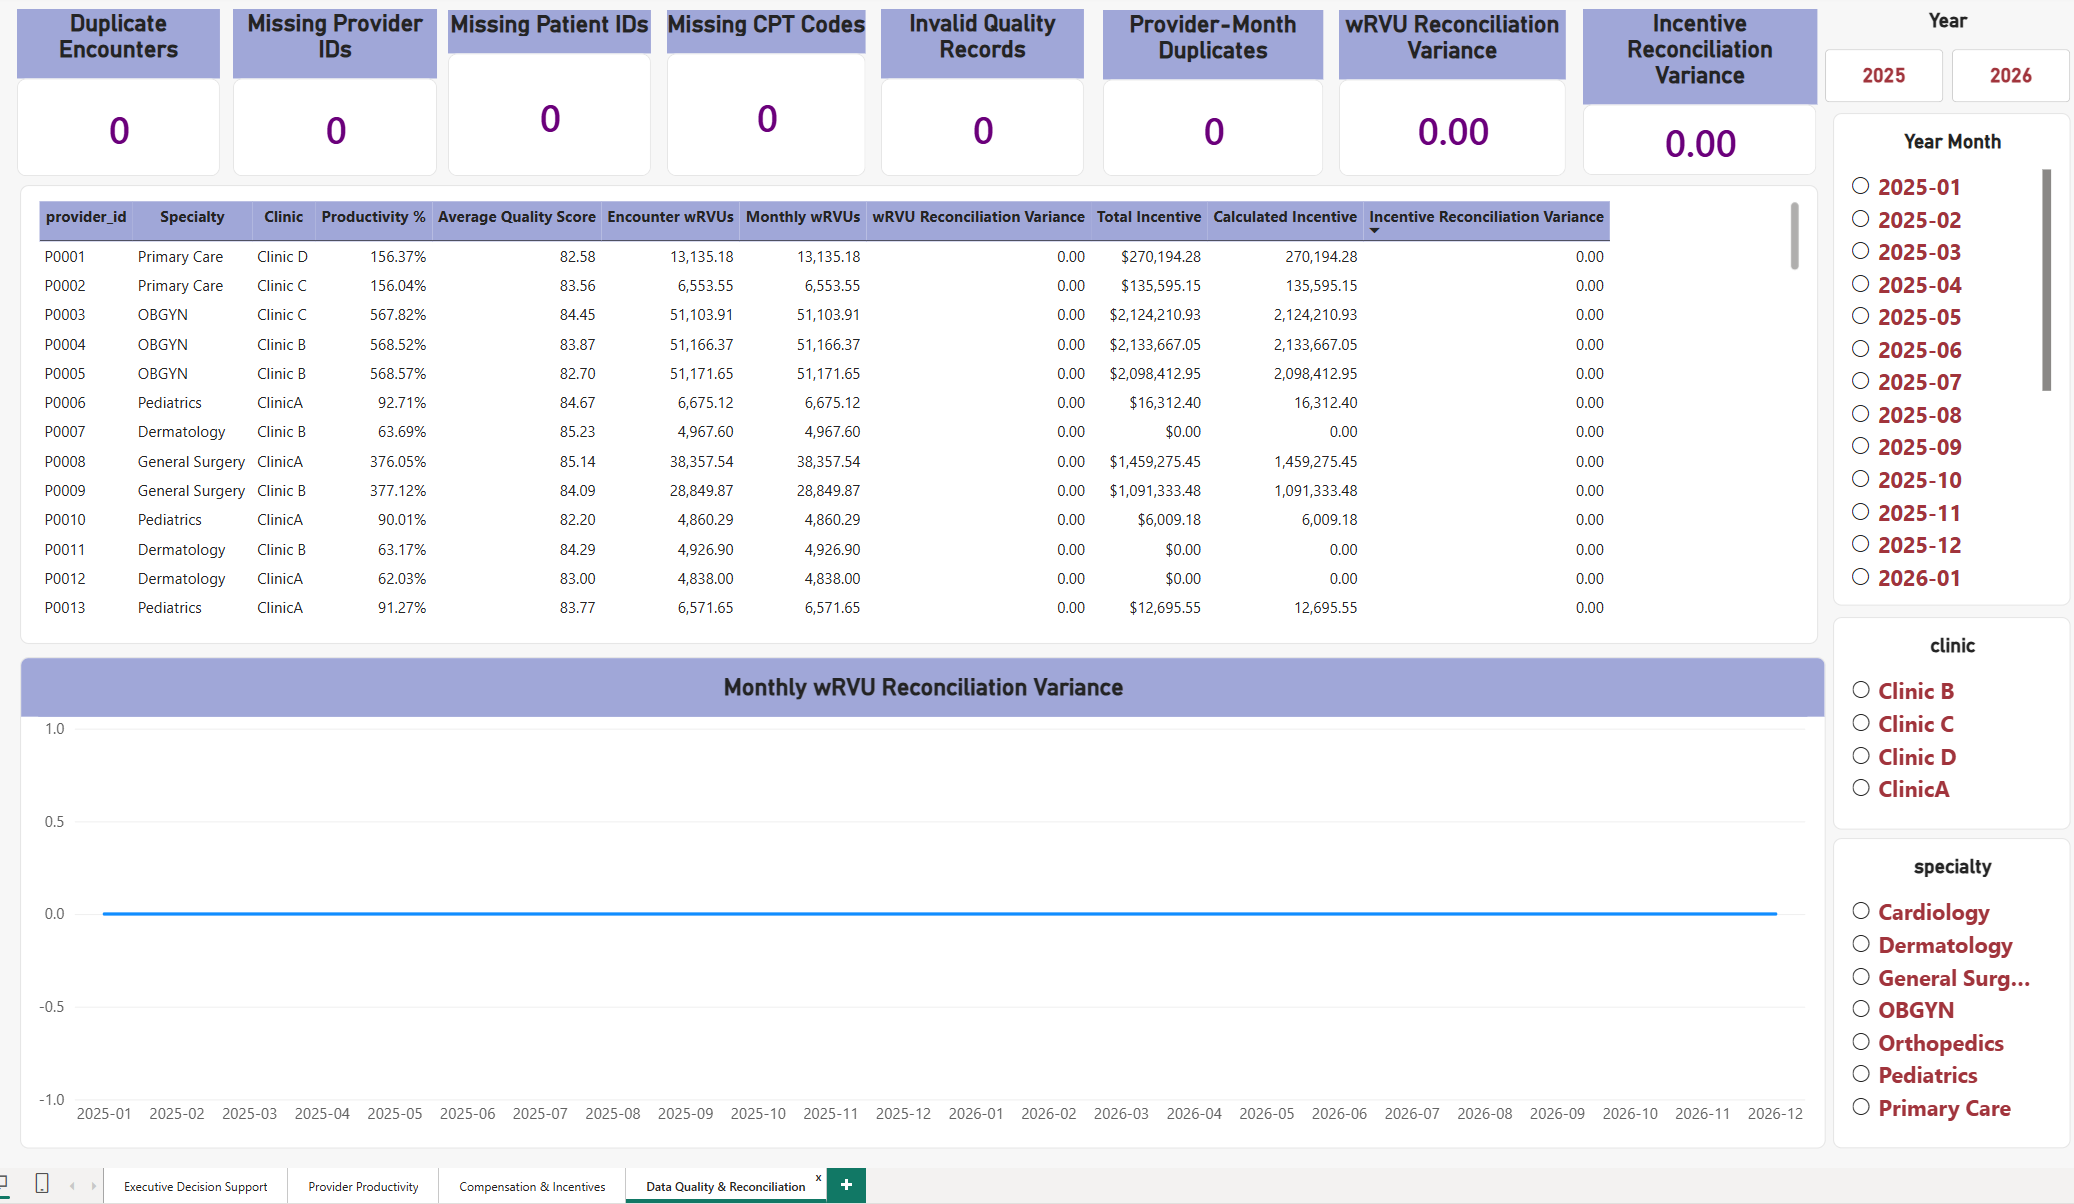

This screenshot's page, from the dashboard's own definition file:
{"tool":"powerbi","page":{"name":"Data Quality & Reconciliation","canvas":[1920,1080],"ordinal":3},"visuals":[{"type":"tableEx","fields":{"Values":["dim_providers.provider_id","Min(dim_providers.specialty)","Min(dim_providers.clinic)","fact_provider_monthly.Productivity %","fact_provider_monthly.Average Quality Score","fact_encounter.Encounter wRVUs","fact_encounter.Monthly wRVUs","fact_encounter.wRVU Reconciliation Variance","fact_provider_monthly.Total Incentive","fact_provider_monthly.Calculated Incentive","fact_provider_monthly.Incentive Reconciliation Variance"]},"box":[21.7,174.5,1656.7,423.1],"z":0},{"type":"advancedSlicerVisual","fields":{"Values":["DimDate.Year"]},"box":[1685.8,11.9,227.1,86.9],"z":1000},{"type":"listSlicer","fields":{"Values":["DimDate.Year Month"]},"box":[1693.2,107.5,218.9,453.6],"z":2000},{"type":"listSlicer","fields":{"Values":["dim_providers.specialty"]},"box":[1693.2,776.1,218.9,286],"z":3000},{"type":"listSlicer","fields":{"Values":["dim_providers.clinic"]},"box":[1693.2,572,218.9,196.2],"z":4000},{"type":"cardVisual","title":"Duplicate Encounters","fields":{"Data":["fact_encounter.Duplicate Encounter Count"]},"box":[19.7,11.8,187.4,154.8],"z":5000},{"type":"cardVisual","title":"Missing Provider IDs","fields":{"Data":["fact_encounter.Missing Provider IDs"]},"box":[217.9,11.8,188.4,154.8],"z":6000},{"type":"cardVisual","title":"Missing Patient IDs","fields":{"Data":["fact_encounter.Missing Patient IDs"]},"box":[416.1,12.8,187.4,153.8],"z":7000},{"type":"cardVisual","title":"Missing CPT Codes","fields":{"Data":["fact_encounter.Missing CPT Codes"]},"box":[618.3,12.8,183.4,153.8],"z":8000},{"type":"cardVisual","title":"Invalid Quality Records","fields":{"Data":["fact_provider_monthly.Invalid Quality Records1"]},"box":[815.5,11.8,187.4,154.8],"z":9000},{"type":"cardVisual","title":"Provider-Month Duplicates","fields":{"Data":["fact_encounter.Provider Month Duplicate Rows"]},"box":[1019.7,12.8,203.1,153.8],"z":10000},{"type":"cardVisual","title":"wRVU Reconciliation Variance","fields":{"Data":["fact_encounter.wRVU Reconciliation Variance"]},"box":[1237.6,12.8,209.1,153.8],"z":11000},{"type":"lineChart","title":"Monthly wRVU Reconciliation Variance","fields":{"Category":["DimDate.Year Month"],"Y":["fact_encounter.wRVU Reconciliation Variance"]},"box":[21.7,609.4,1663.6,452.6],"z":12000},{"type":"cardVisual","title":"Incentive Reconciliation Variance","fields":{"Data":["fact_provider_monthly.Incentive Reconciliation Variance"]},"box":[1462.4,11.8,216,153.8],"z":13000}]}

Visuals, with their boxes on the page's 1920x1080 design canvas (x1, y1, x2, y2). These are canvas units, not pixel positions in the 2074x1204 screenshot, which may show the page scaled, cropped or inside an application window:
tableEx - dim_providers.provider_id x Min(dim_providers.specialty): 22:174:1678:598
advancedSlicerVisual - DimDate.Year: 1686:12:1913:99
listSlicer - DimDate.Year Month: 1693:108:1912:561
listSlicer - dim_providers.specialty: 1693:776:1912:1062
listSlicer - dim_providers.clinic: 1693:572:1912:768
"Duplicate Encounters" cardVisual: 20:12:207:167
"Missing Provider IDs" cardVisual: 218:12:406:167
"Missing Patient IDs" cardVisual: 416:13:604:167
"Missing CPT Codes" cardVisual: 618:13:802:167
"Invalid Quality Records" cardVisual: 816:12:1003:167
"Provider-Month Duplicates" cardVisual: 1020:13:1223:167
"wRVU Reconciliation Variance" cardVisual: 1238:13:1447:167
"Monthly wRVU Reconciliation Variance" lineChart: 22:609:1685:1062
"Incentive Reconciliation Variance" cardVisual: 1462:12:1678:166
